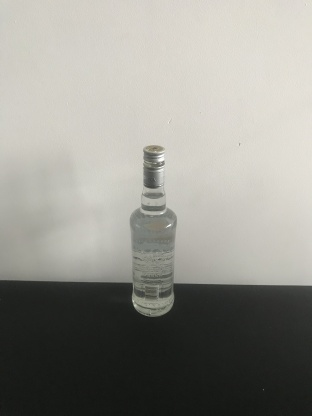nakretka: (141, 144, 166, 189)
